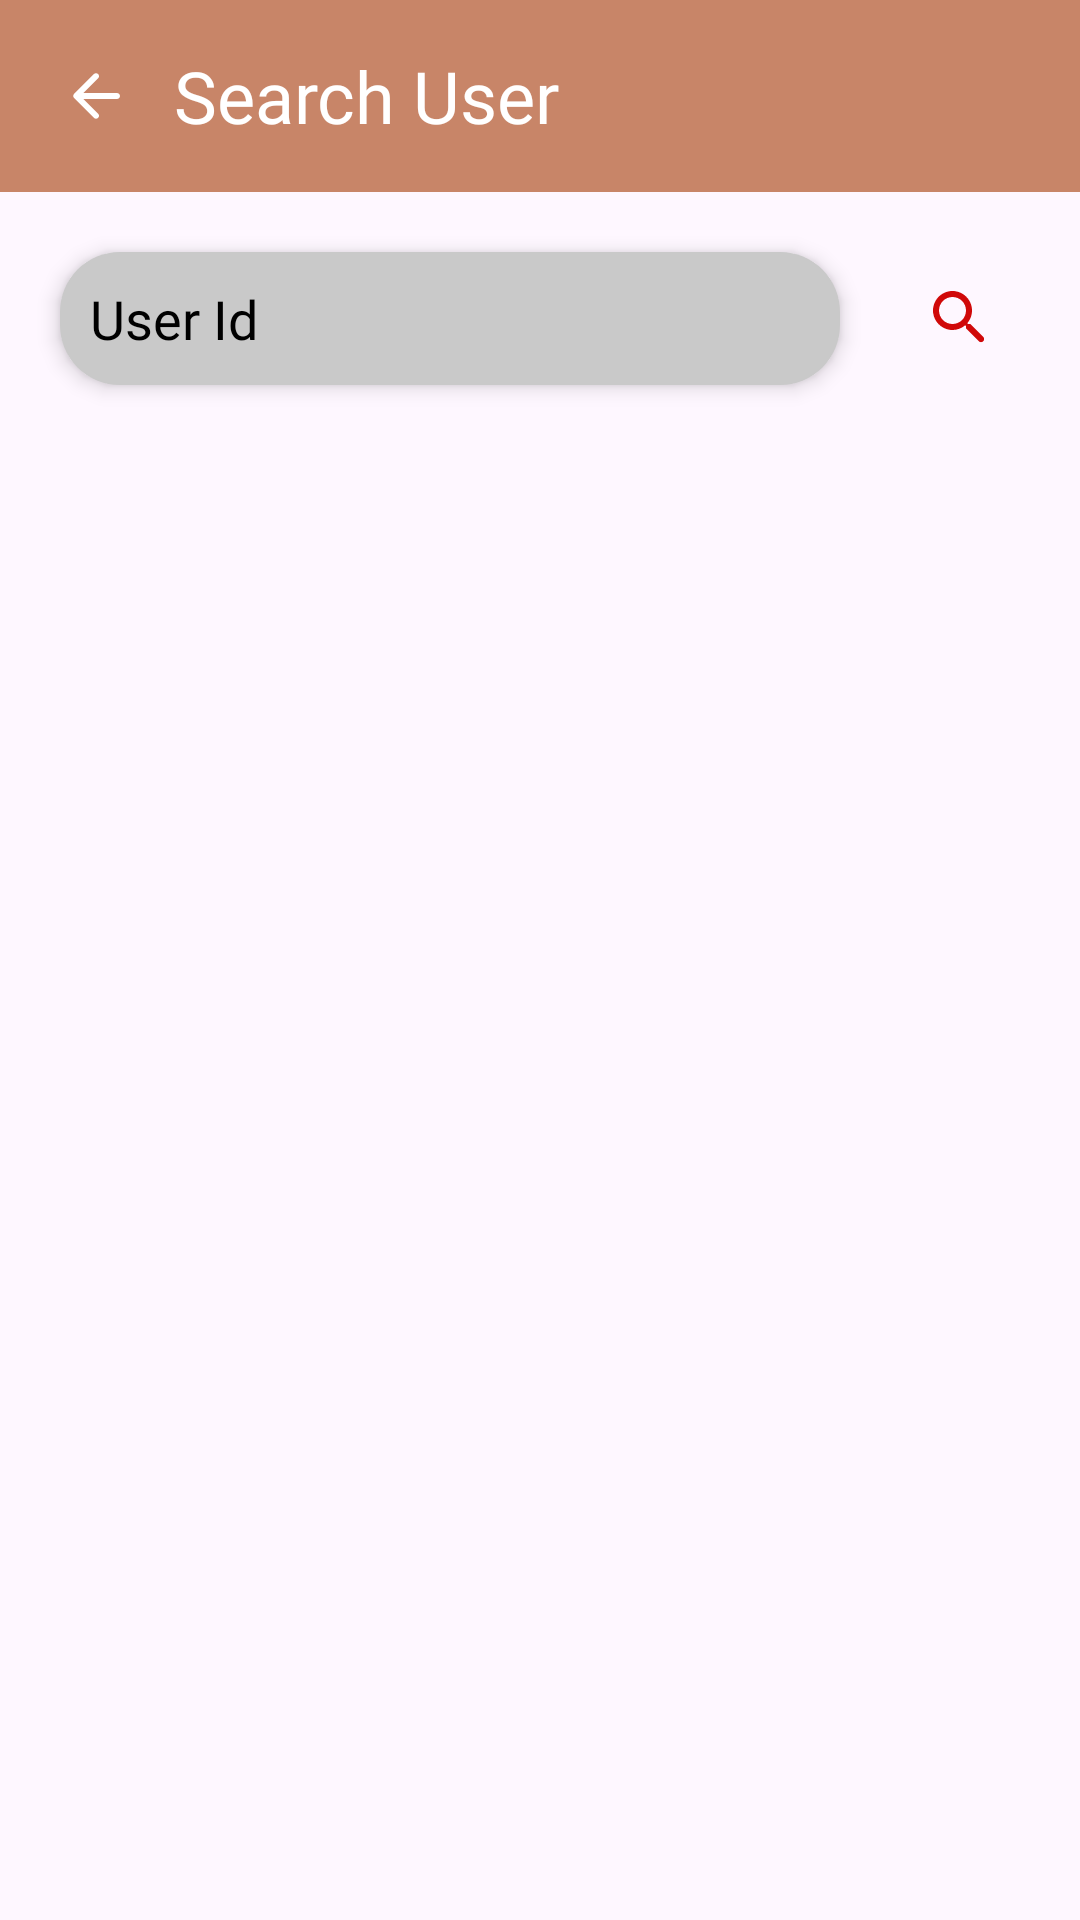

Icons on this 1080×1920 Android screen, each with its box as (x1, y1, x2, y2):
back: (73, 73, 120, 119)
search: (933, 291, 984, 342)
